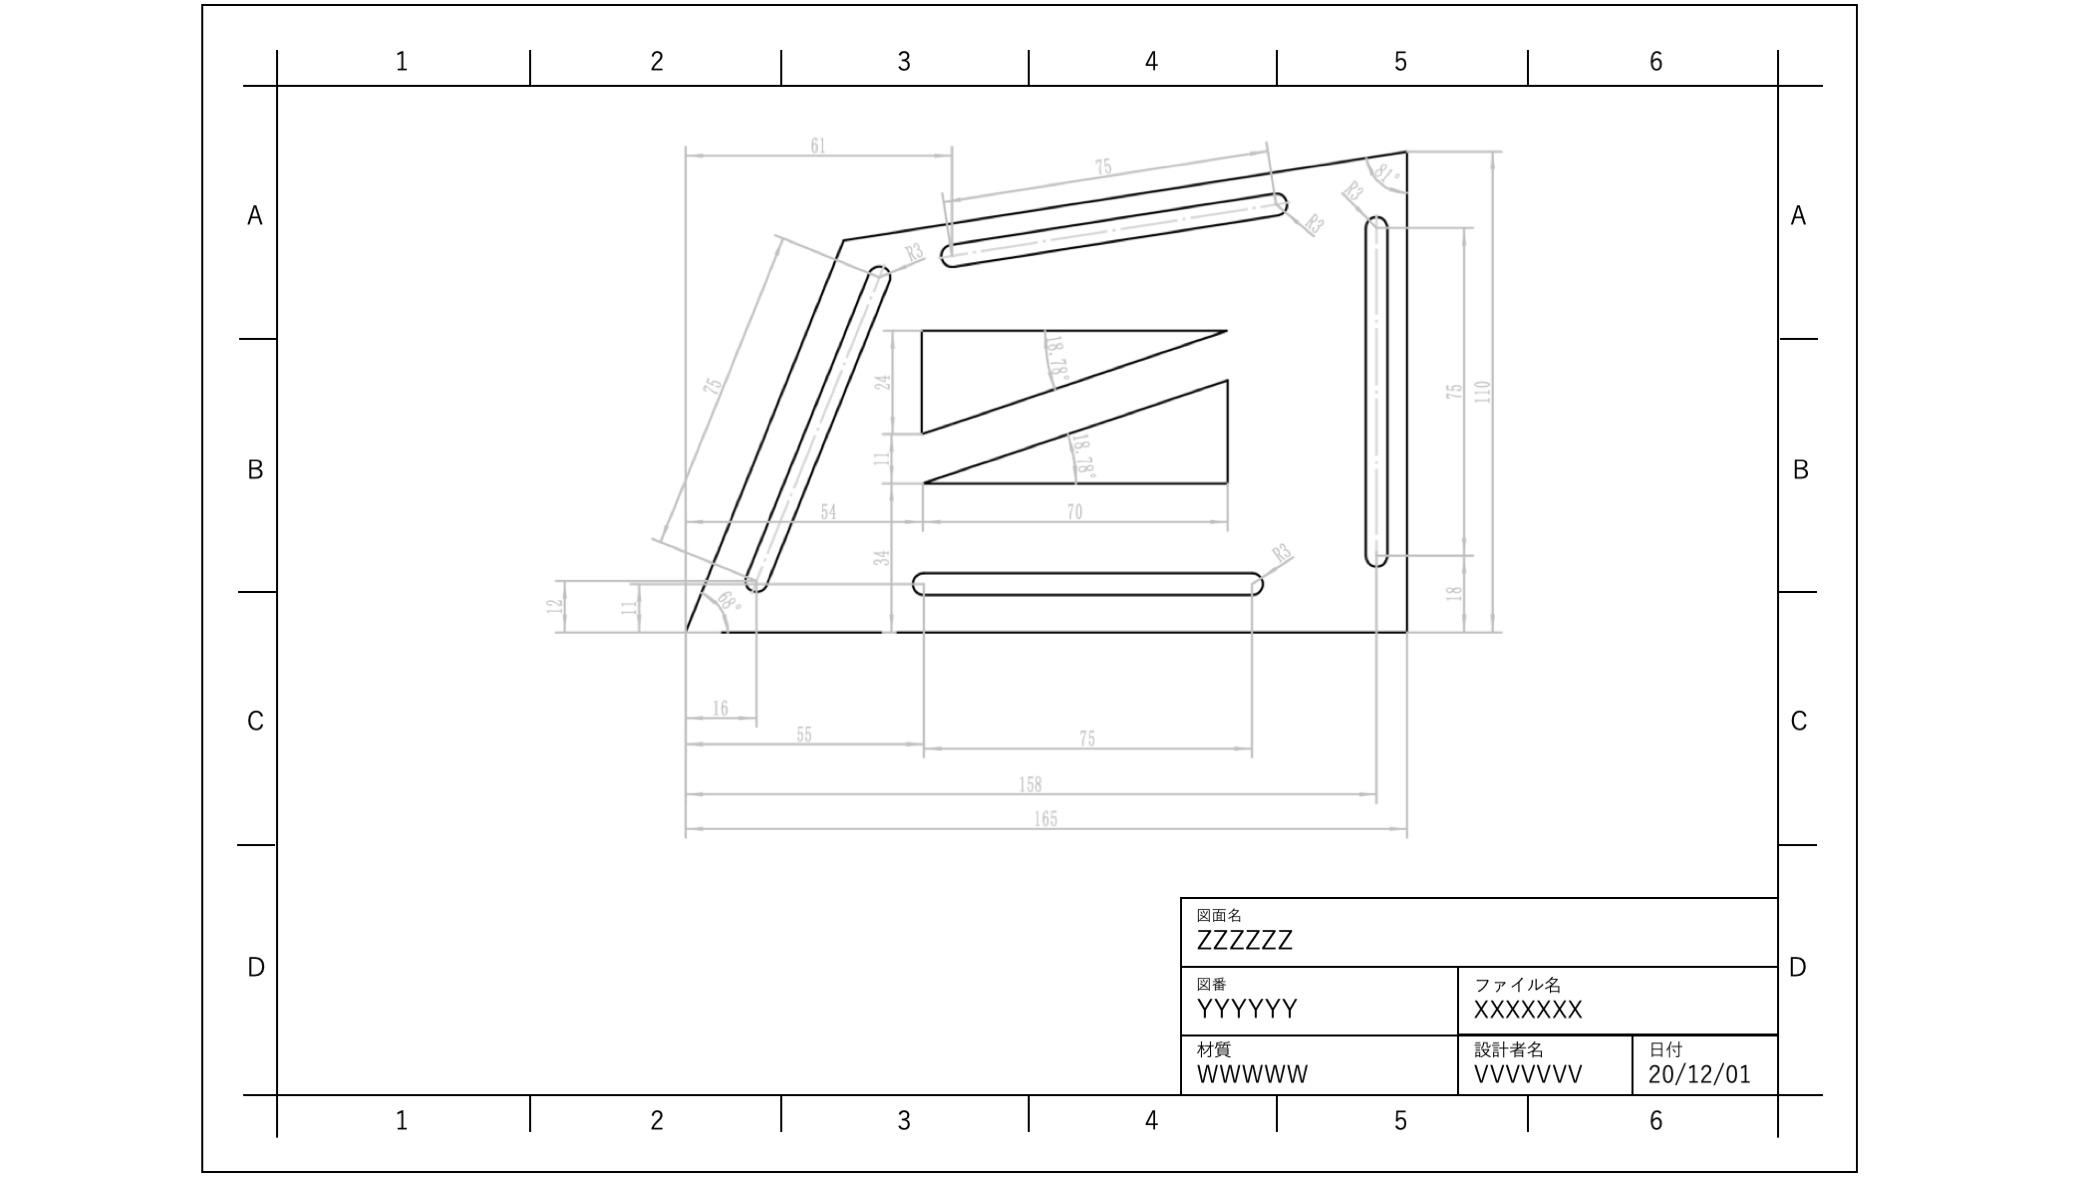round_rectangle: (744, 262, 894, 593), (937, 190, 1300, 280), (907, 562, 1271, 600), (1362, 208, 1392, 574)
triangle: (916, 320, 1235, 438), (919, 373, 1236, 490)
